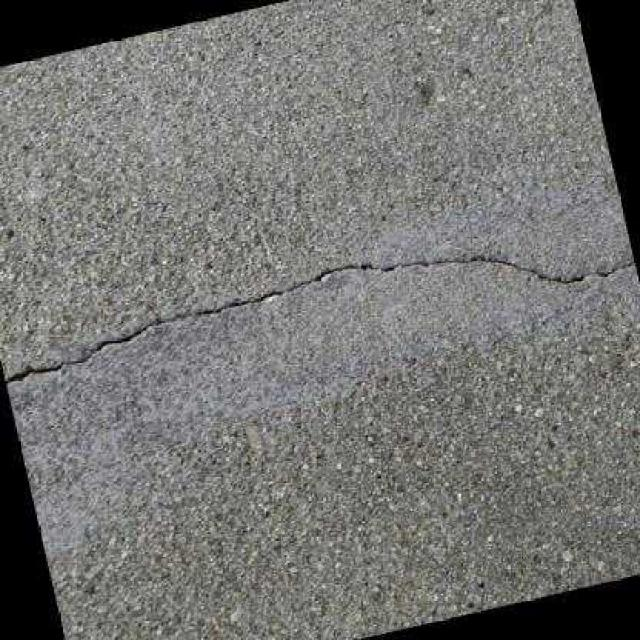D00: (5, 254, 636, 384)
